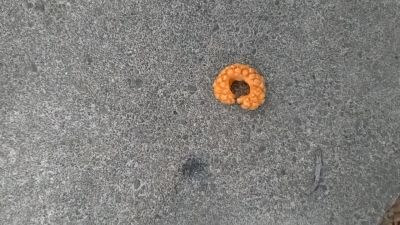eggs: (214, 63, 267, 113)
